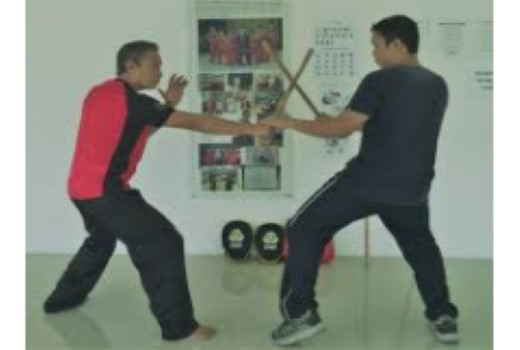baston_e: (266, 53, 314, 121), (267, 42, 309, 114)
baston_v: (305, 43, 318, 55), (257, 37, 268, 50)
